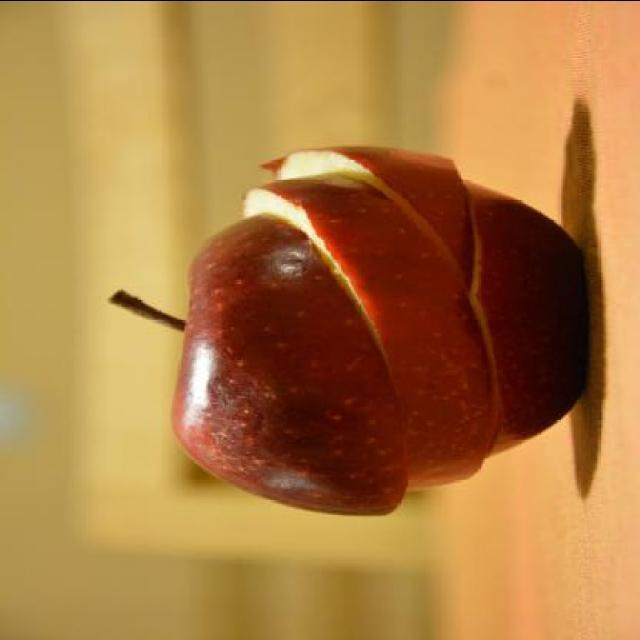Apple pie: (139, 151, 599, 518)
